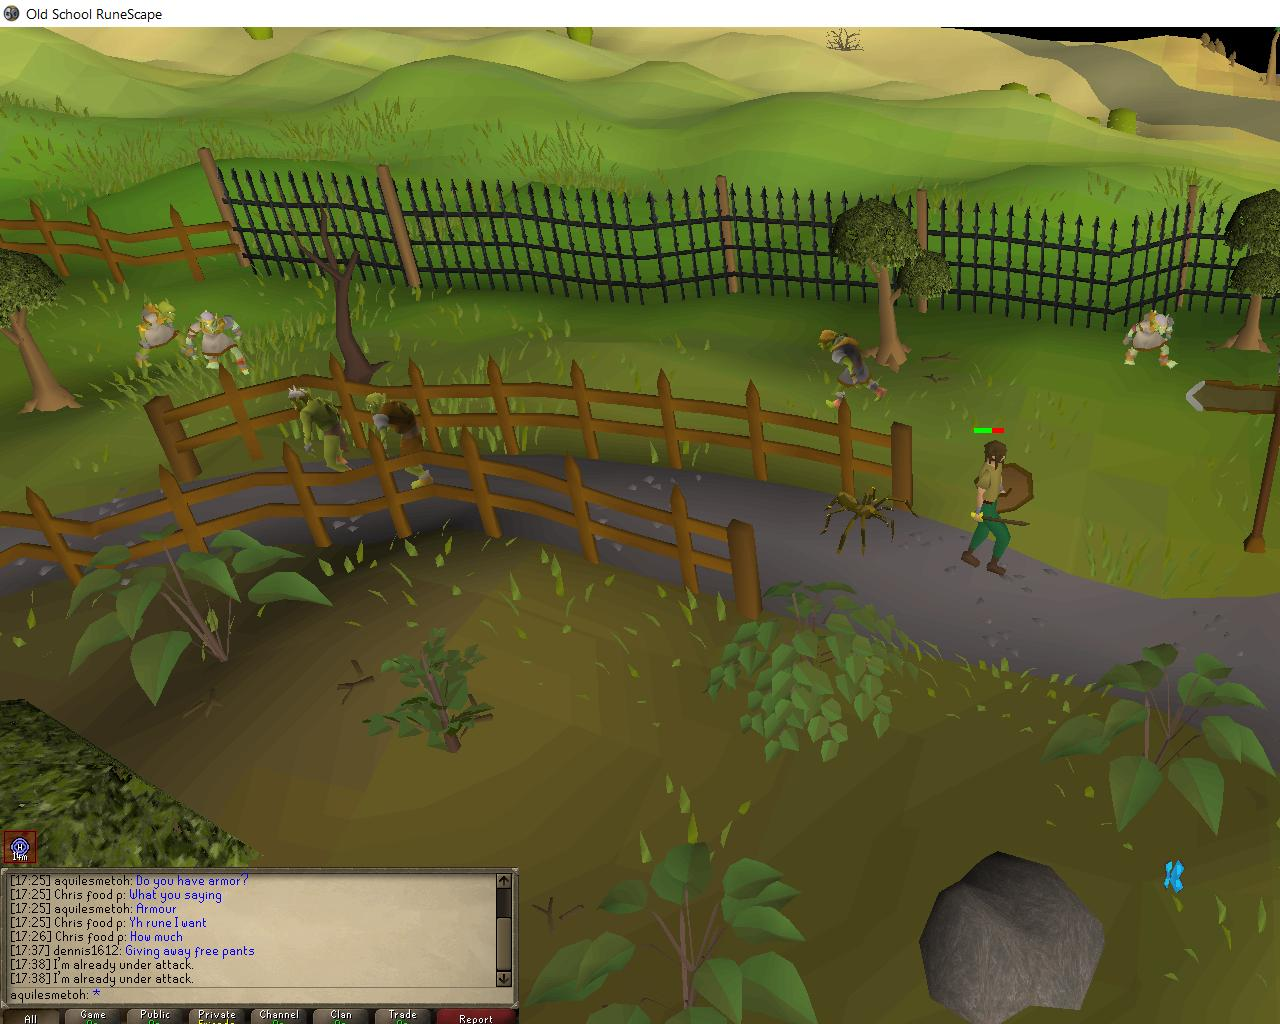Goblin: (359, 395, 448, 489), (290, 385, 362, 481), (813, 331, 886, 413), (184, 309, 251, 379), (130, 296, 189, 374), (1125, 304, 1178, 370)
